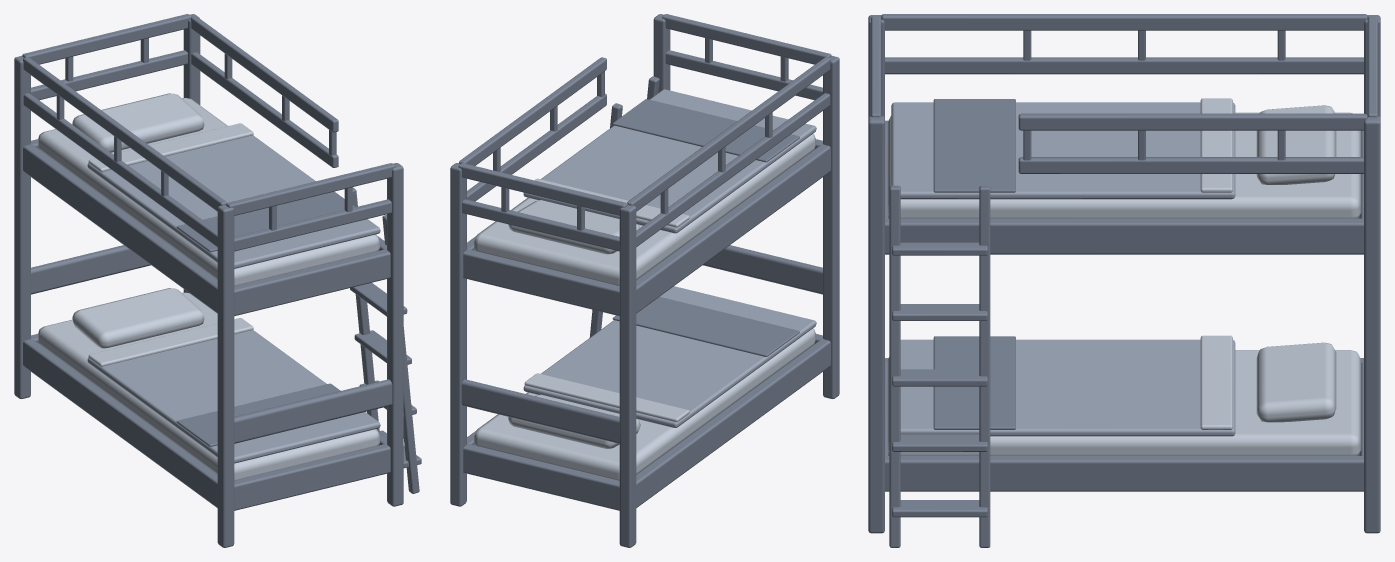
Rendered from bunk-bed-lite.glb.
3 renders of one model, left to right at view 1: azimuth 30°, elevation 25°; view 2: azimuth 150°, elevation 25°; view 3: azimuth 270°, elevation 25°, orthographic. The views are drawn at different scales.
Visible parts, largest first — view 1: bunk-bed; view 2: bunk-bed; view 3: bunk-bed.
Part boxes in pixels (x1,y1,x2,y2): bunk-bed: (14, 14, 421, 547); bunk-bed: (450, 14, 839, 547); bunk-bed: (868, 14, 1380, 547).
Bounding box in the file's own units: 1.18 × 1.84 × 2.06.
